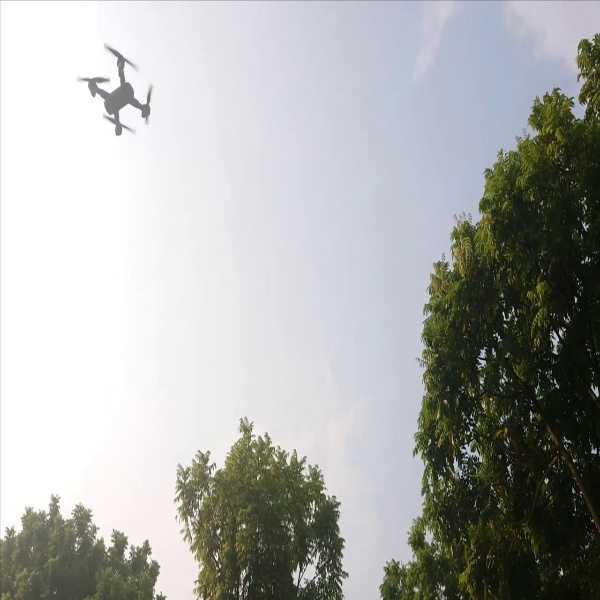drone: (74, 43, 162, 148)
